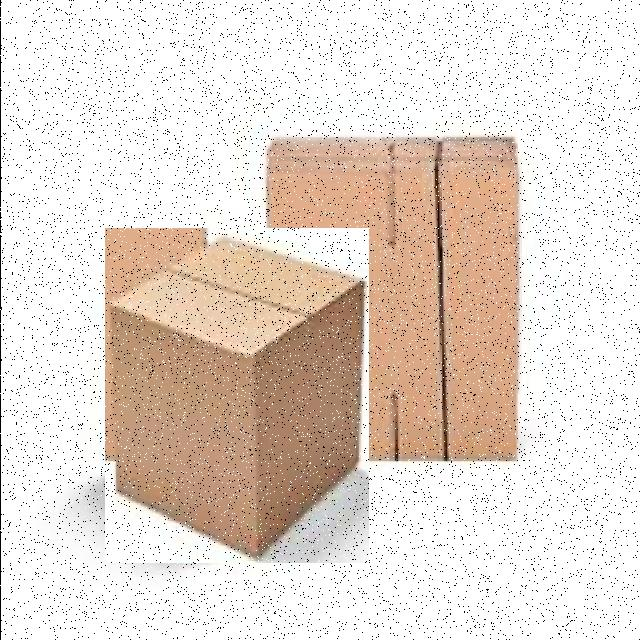normal: (104, 228, 368, 563)
